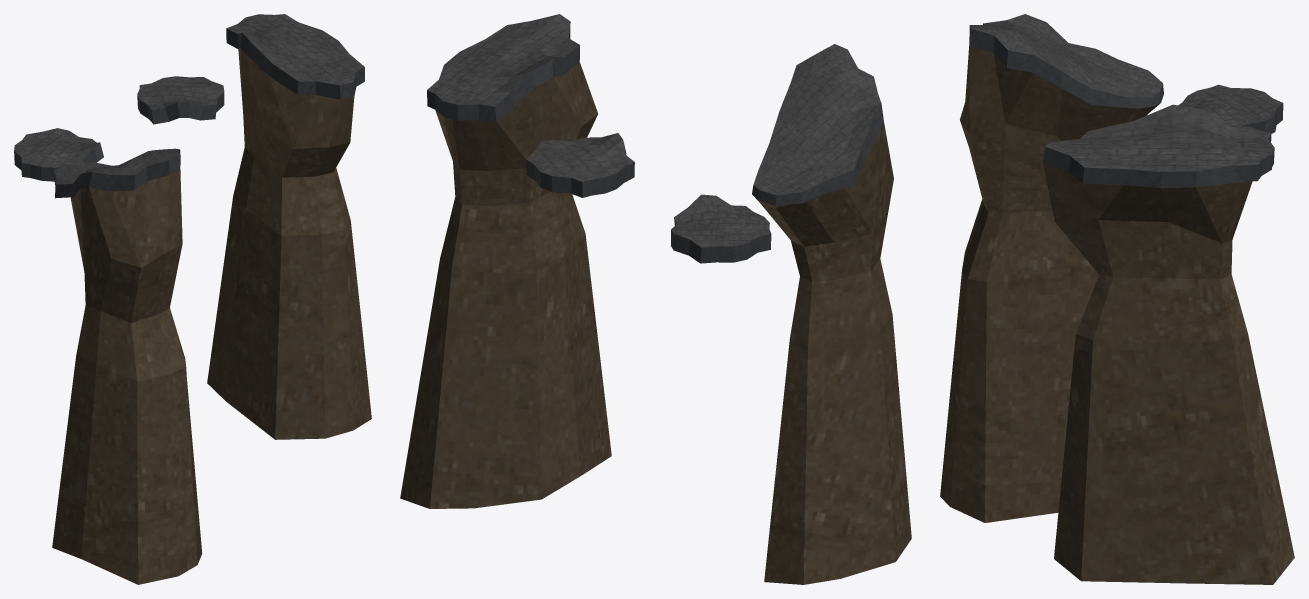
Rendered from Broken Platforms.fbx.
3 renders of one model, left to right at view 1: azimuth 30°, elevation 25°; view 2: azimuth 150°, elevation 25°; view 3: azimuth 270°, elevation 25°, orthographic. The views are drawn at different scales.
Parts seen in each view (by area): view 1: Broken Platform.002; view 2: Broken Platform.002; view 3: Broken Platform.002.
Part boxes in pixels (x1,y1,x2,y2): Broken Platform.002: [14, 14, 371, 584]; Broken Platform.002: [400, 14, 911, 584]; Broken Platform.002: [940, 14, 1294, 584].
Size of the model in its own units: 250 by 300 by 196.
Materials: 1 (1 with a texture image).
